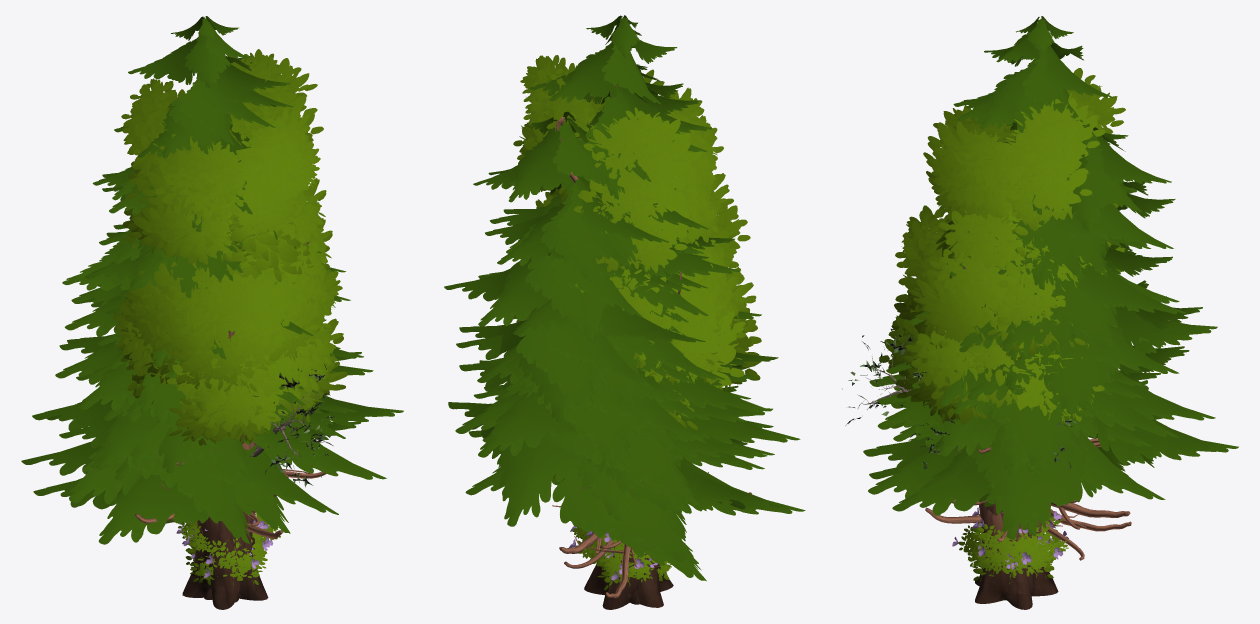
Rendered from trees.glb.
3 renders of one model, left to right at view 1: azimuth 30°, elevation 25°; view 2: azimuth 150°, elevation 25°; view 3: azimuth 270°, elevation 25°, orthographic. The views are drawn at different scales.
Visible parts, largest first — view 1: common3, pine4, common4, pine5, pine2, common1, common2, bush, pine1, aspen, common5, pine3; view 2: pine5, pine4, common3, common4, pine2, common2, common1, pine1, bush, common5, pine3; view 3: pine5, pine4, common4, common3, common2, pine2, common1, bush, pine1, common5, aspen, pine3.
Part boxes in pixels (x1=…): common3: x1=121, y1=56, x2=342, y2=609; pine4: x1=32, y1=16, x2=363, y2=601; common4: x1=128, y1=49, x2=326, y2=605; pine5: x1=21, y1=115, x2=403, y2=602; pine2: x1=33, y1=244, x2=361, y2=544; common1: x1=118, y1=227, x2=347, y2=604; common2: x1=113, y1=208, x2=343, y2=609; bush: x1=176, y1=512, x2=280, y2=585; pine1: x1=59, y1=230, x2=338, y2=497; aspen: x1=234, y1=363, x2=334, y2=487; common5: x1=124, y1=236, x2=324, y2=598; pine3: x1=76, y1=235, x2=318, y2=526; pine5: x1=444, y1=111, x2=783, y2=604; pine4: x1=455, y1=15, x2=800, y2=604; common3: x1=541, y1=63, x2=750, y2=607; common4: x1=513, y1=55, x2=723, y2=609; pine2: x1=465, y1=251, x2=805, y2=581; common2: x1=515, y1=195, x2=761, y2=609; common1: x1=553, y1=194, x2=761, y2=605; pine1: x1=482, y1=240, x2=774, y2=553; bush: x1=569, y1=526, x2=671, y2=590; common5: x1=575, y1=269, x2=745, y2=606; pine3: x1=499, y1=271, x2=750, y2=568; pine5: x1=869, y1=123, x2=1238, y2=539; pine4: x1=869, y1=16, x2=1189, y2=596; common4: x1=923, y1=68, x2=1125, y2=609; common3: x1=892, y1=93, x2=1123, y2=609; common2: x1=879, y1=196, x2=1113, y2=609; pine2: x1=863, y1=268, x2=1165, y2=536; common1: x1=888, y1=218, x2=1124, y2=607; bush: x1=952, y1=507, x2=1068, y2=583; pine1: x1=891, y1=261, x2=1160, y2=529; common5: x1=929, y1=241, x2=1125, y2=602; aspen: x1=842, y1=328, x2=1077, y2=469; pine3: x1=912, y1=272, x2=1149, y2=560.
Size of the model in its own units: 6.42 by 10.24 by 6.56.
7 materials, 7 textured.
